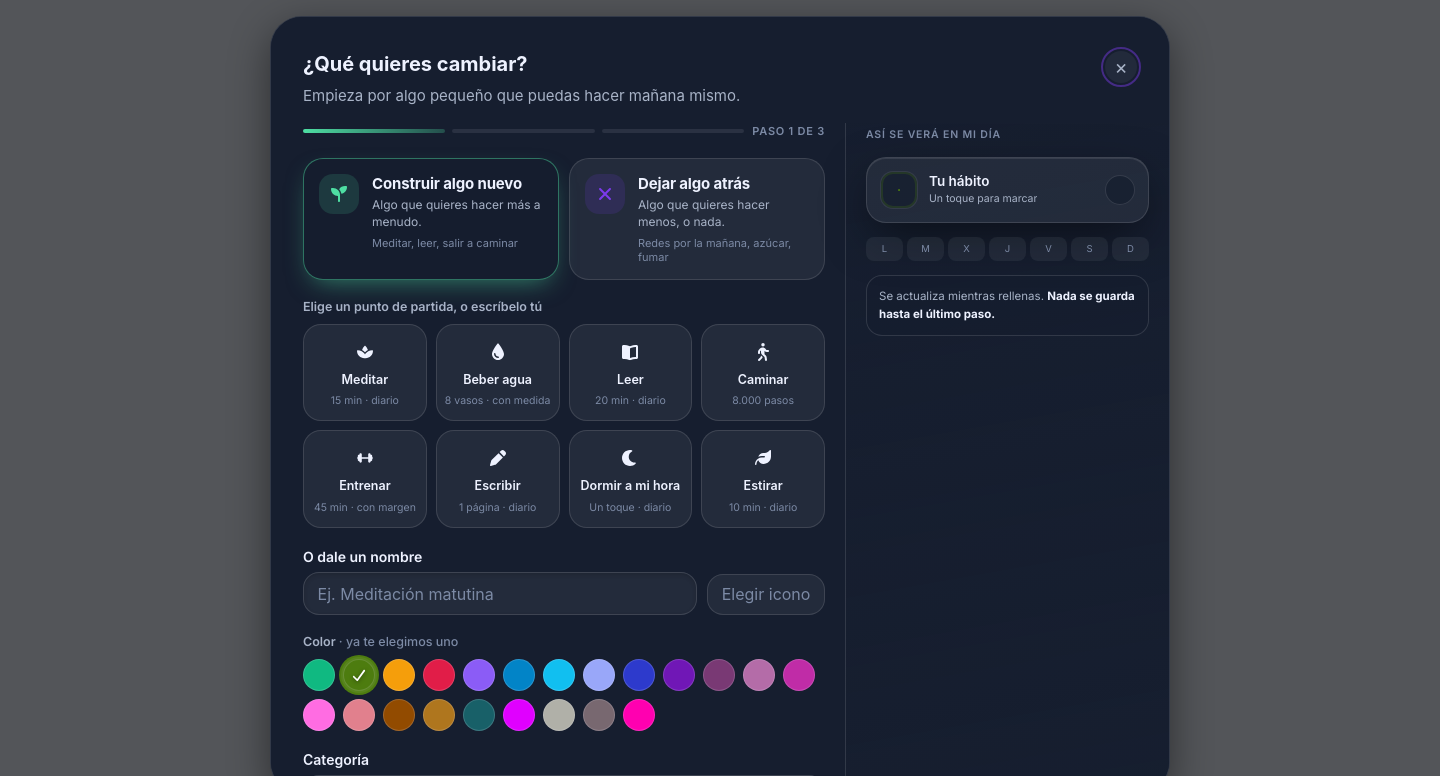
it: HabitFormModal — crear › una plantilla con medida preselecciona la del usuario si existe por nombre
Click the button "Beber agua 8 vasos · con medida".
click(498, 373)  # box top-left (436, 324), bottom-right (560, 421)
(page scrolled)
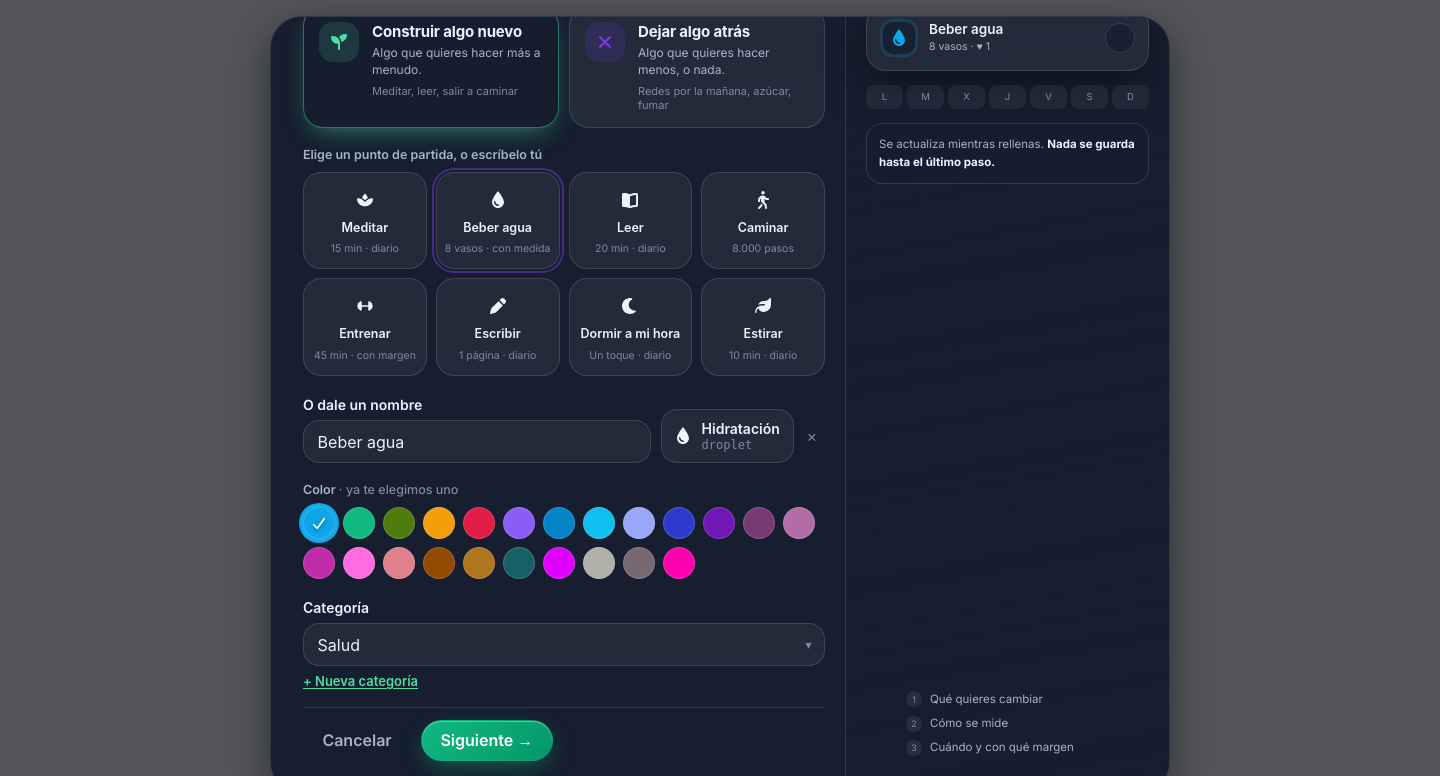
Click the button "Siguiente →".
click(487, 740)  # box top-left (421, 720), bottom-right (553, 760)
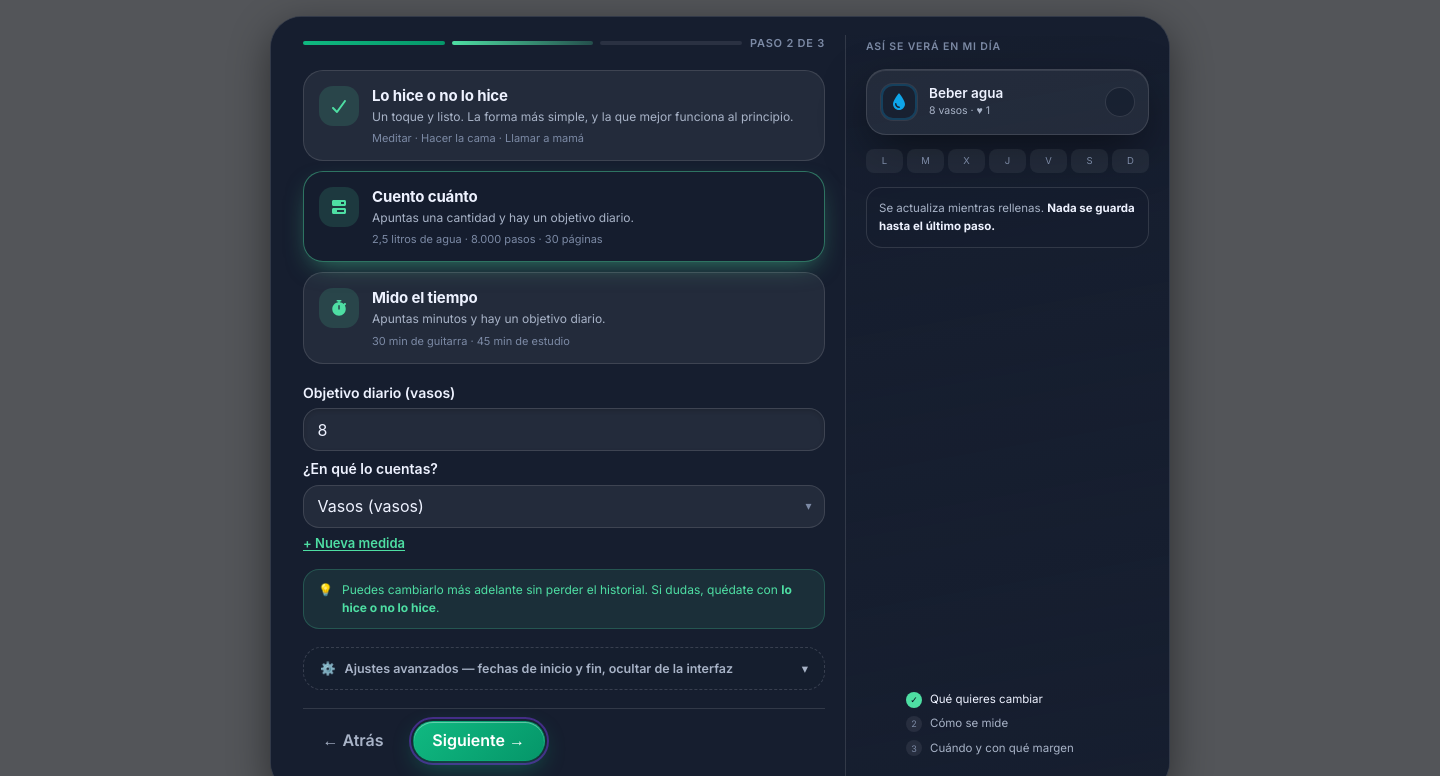
Now the dropdown labelled "¿En qué lo cuentas?" shows "Vasos (vasos)", box top-left (303, 485), bottom-right (825, 528)
